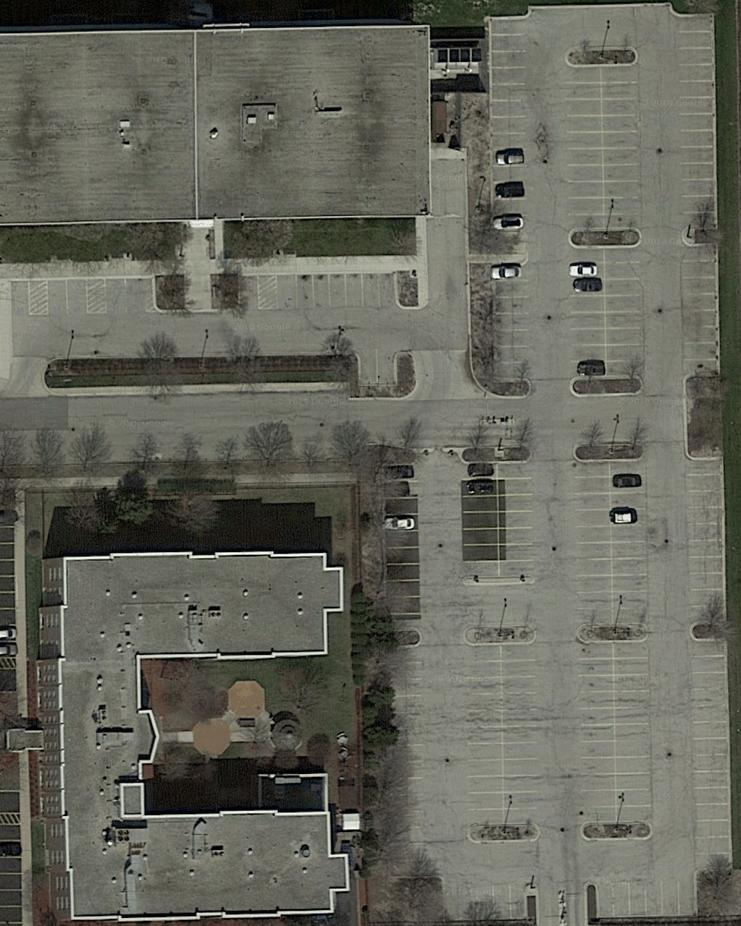parkingspot: (378, 643, 430, 881), (689, 638, 735, 873), (675, 13, 718, 231), (490, 17, 530, 234), (612, 640, 653, 825), (465, 642, 505, 829), (500, 641, 540, 828), (577, 640, 617, 825), (608, 457, 651, 627), (563, 64, 606, 232), (685, 458, 727, 627), (573, 459, 615, 628), (382, 463, 424, 632), (601, 63, 642, 230), (603, 245, 645, 379), (567, 245, 609, 379), (680, 243, 720, 377), (275, 271, 400, 312), (459, 462, 501, 581), (496, 460, 536, 579), (493, 263, 531, 382), (595, 879, 698, 919), (441, 882, 528, 923), (46, 278, 89, 319), (104, 277, 148, 316), (357, 347, 398, 386), (238, 273, 261, 313), (9, 279, 31, 319)
